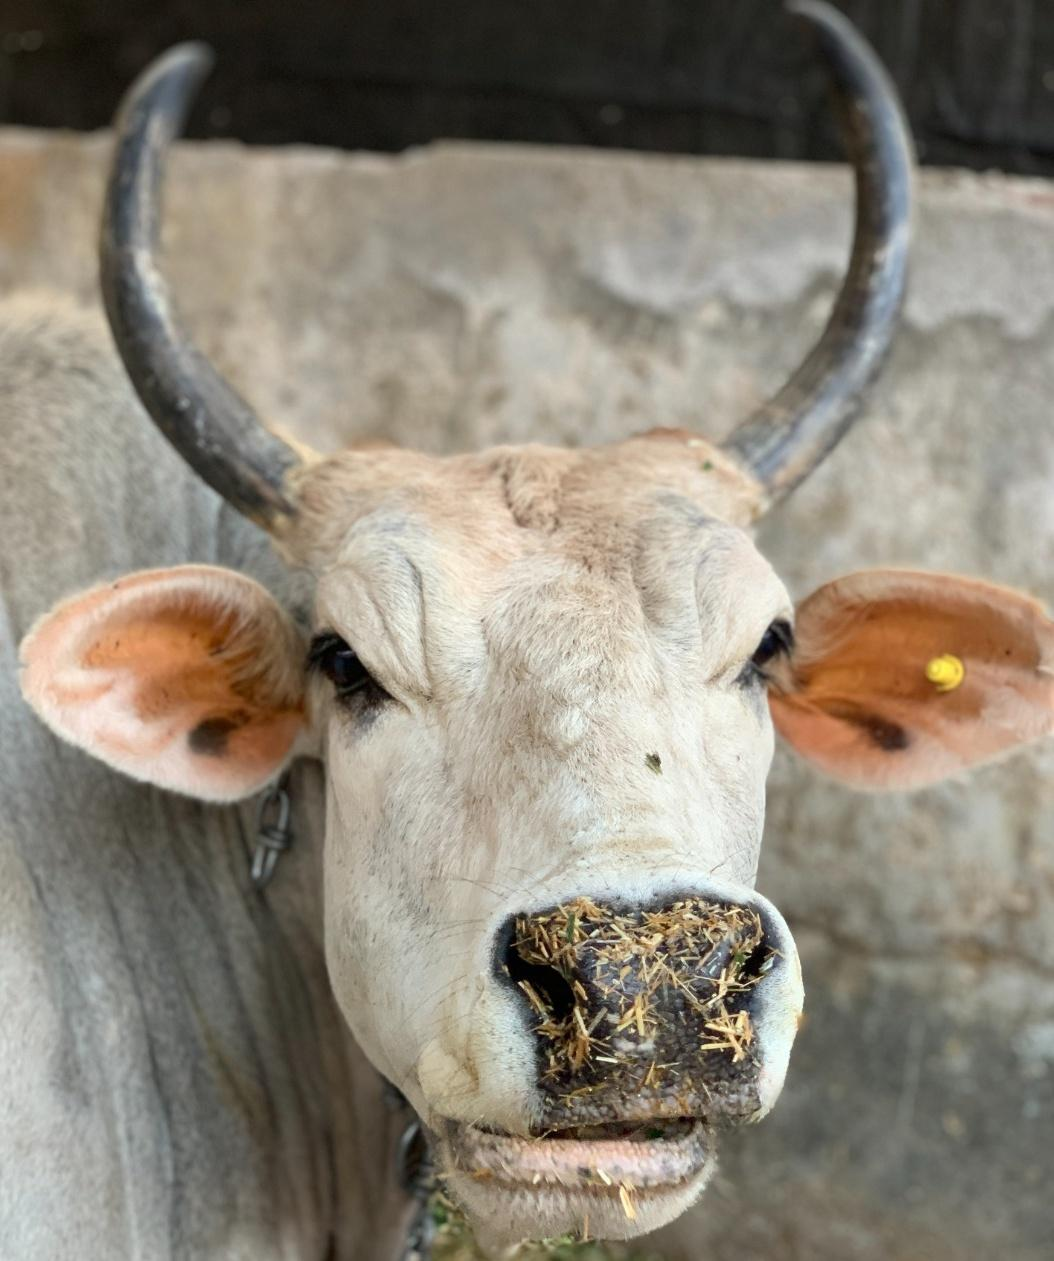muzzles: (468, 876, 789, 1138)
